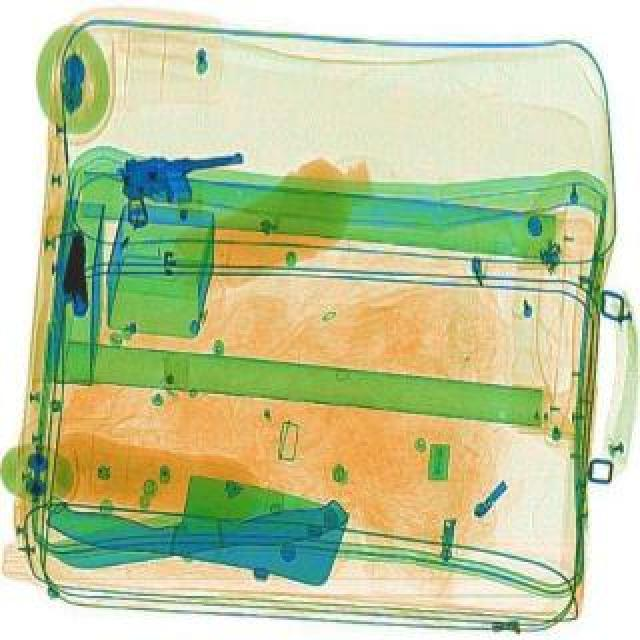gun: (112, 146, 248, 226), (56, 226, 96, 316)
knife: (40, 448, 352, 586), (40, 488, 348, 568)
